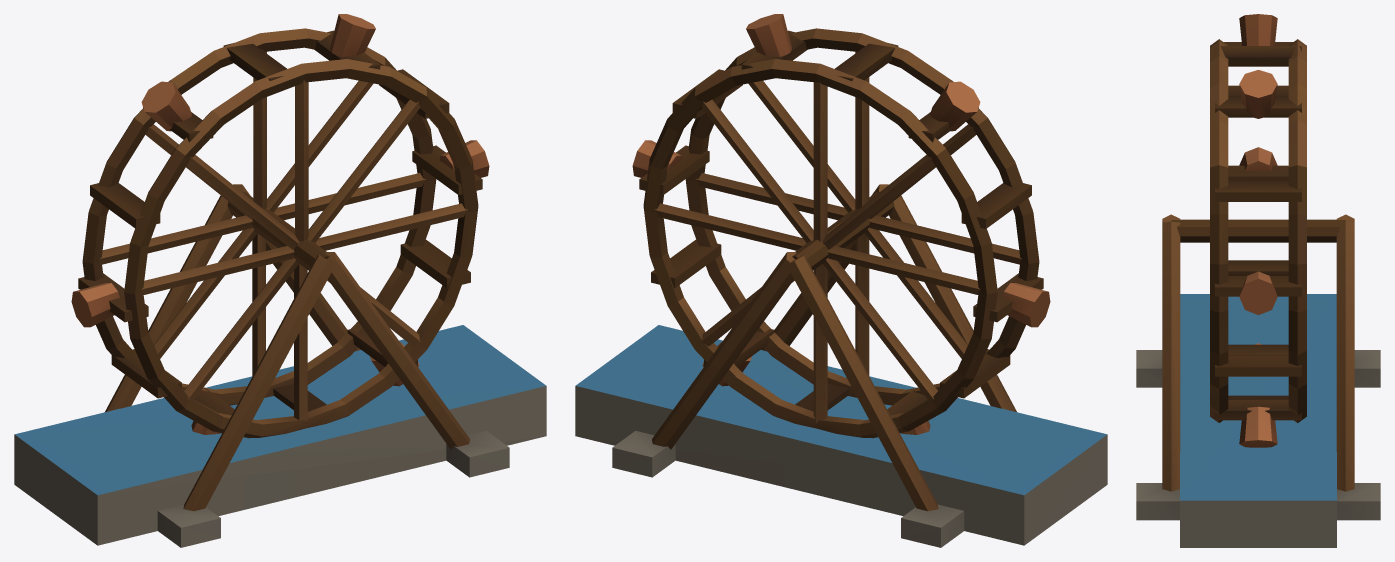
3 renders of one model, left to right at view 1: azimuth 30°, elevation 25°; view 2: azimuth 150°, elevation 25°; view 3: azimuth 270°, elevation 25°, orthographic. The views are drawn at different scales.
Visible parts, largest first — view 1: base; view 2: base; view 3: base.
Part boxes in pixels (x1=…): base: x1=14, y1=14, x2=546, y2=547; base: x1=575, y1=14, x2=1107, y2=547; base: x1=1136, y1=14, x2=1380, y2=547.
Bounding box in the file's own units: 0.56 × 0.5158 × 0.28.
